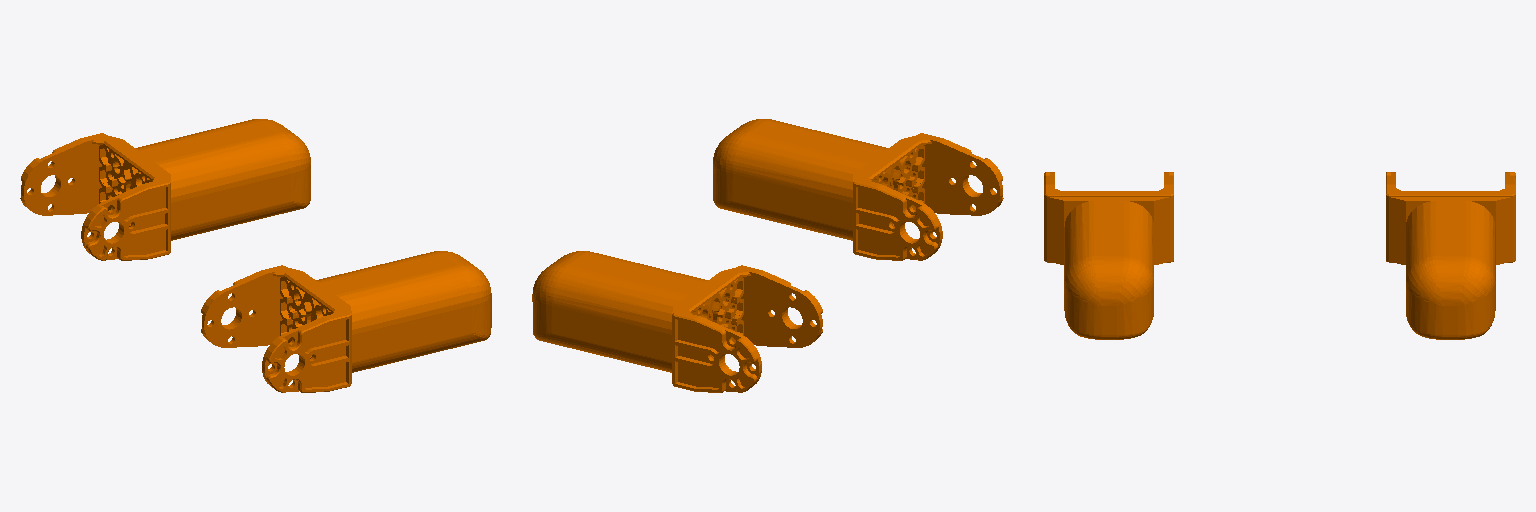
robot.urdf — onshape:
<robot name="onshape">
  <link name="palm_lower">
    <inertial>
      <origin xyz="0.0 0.0 0.0" rpy="0.0 -0.0 0.0"/>
      <mass value="0.237"/>
      <inertia ixx="0.000354094" ixy="-1.193e-06" ixz="-2.445e-06" iyy="0.000260915" iyz="-2.905e-06" izz="0.000529257"/>
    </inertial>
    <visual>
      <geometry>
        <mesh filename="../assets/leap/leap_hand/palm_lower.stl"/>
      </geometry>
      <origin xyz="-0.020095249652862544 0.025757756134899473 -0.034722403578460216" rpy="0.0 -0.0 0.0"/>
      <material name="palm_lower_material">
        <color rgba="0.6039215686274509 0.14901960784313725 0.14901960784313725 1.0"/>
      </material>
    </visual>
    <collision>
      <geometry>
        <mesh filename="../assets/leap/leap_hand/palm_lower.stl"/>
      </geometry>
      <origin xyz="-0.020095249652862544 0.025757756134899473 -0.034722403578460216" rpy="0.0 -0.0 0.0"/>
    </collision>
  </link>
  <link name="mcp_joint">
    <inertial>
      <origin xyz="0.0 0.0 0.0" rpy="0.0 -0.0 0.0"/>
      <mass value="0.044"/>
      <inertia ixx="1.1499e-05" ixy="3.049e-06" ixz="1.21e-07" iyy="7.796e-06" iyz="1.12e-07" izz="1.4759e-05"/>
    </inertial>
    <visual>
      <geometry>
        <mesh filename="../assets/leap/leap_hand/mcp_joint.stl"/>
      </geometry>
      <origin xyz="0.008406902261174496 0.0077662438597169954 0.014657354985032912" rpy="1.6375789613221e-15 -1.021047330249102e-30 1.7177968783327987e-31"/>
      <material name="mcp_joint_material">
        <color rgba="0.8666666666666667 0.8666666666666667 0.050980392156862744 1.0"/>
      </material>
    </visual>
    <collision>
      <geometry>
        <mesh filename="../assets/leap/leap_hand/mcp_joint.stl"/>
      </geometry>
      <origin xyz="0.008406902261174496 0.0077662438597169954 0.014657354985032912" rpy="1.6375789613221e-15 -1.021047330249102e-30 1.7177968783327987e-31"/>
    </collision>
  </link>
  <link name="pip">
    <inertial>
      <origin xyz="0.0 0.0 0.0" rpy="0.0 -0.0 0.0"/>
      <mass value="0.032"/>
      <inertia ixx="4.798e-06" ixy="1.2e-08" ixz="4e-09" iyy="2.862e-06" iyz="1.1e-08" izz="4.234e-06"/>
    </inertial>
    <visual>
      <geometry>
        <mesh filename="../assets/leap/leap_hand/pip.stl"/>
      </geometry>
      <origin xyz="0.009643363092271328 0.0002999999999999895 0.0007840340104173765" rpy="-1.5707963267948966 -1.5707963267948963 0.0"/>
      <material name="pip_material">
        <color rgba="0.7490196078431373 0.7490196078431373 0.7490196078431373 1.0"/>
      </material>
    </visual>
    <collision>
      <geometry>
        <mesh filename="../assets/leap/leap_hand/pip.stl"/>
      </geometry>
      <origin xyz="0.009643363092271328 0.0002999999999999895 0.0007840340104173765" rpy="-1.5707963267948966 -1.5707963267948963 0.0"/>
    </collision>
  </link>
  <link name="dip">
    <inertial>
      <origin xyz="0.0 0.0 0.0" rpy="0.0 -0.0 0.0"/>
      <mass value="0.037"/>
      <inertia ixx="5.542e-06" ixy="-6.07e-07" ixz="-1.7e-08" iyy="5.727e-06" iyz="-2.3e-08" izz="6.682e-06"/>
    </inertial>
    <visual>
      <geometry>
        <mesh filename="../assets/leap/leap_hand/dip.stl"/>
      </geometry>
      <origin xyz="0.021133352895225003 -0.00843211914670488 0.00978508816209524" rpy="-3.141592653589793 4.507511124216441e-32 4.439548105392361e-32"/>
      <material name="dip_material">
        <color rgba="0.8666666666666667 0.8666666666666667 0.050980392156862744 1.0"/>
      </material>
    </visual>
    <collision>
      <geometry>
        <mesh filename="../assets/leap/leap_hand/dip.stl"/>
      </geometry>
      <origin xyz="0.021133352895225003 -0.00843211914670488 0.00978508816209524" rpy="-3.141592653589793 4.507511124216441e-32 4.439548105392361e-32"/>
    </collision>
  </link>
  <link name="fingertip_long">
    <inertial>
      <origin xyz="0.0 0.0 0.0" rpy="0.0 -0.0 0.0"/>
      <mass value="0.016"/>
      <inertia ixx="3.368e-06" ixy="1.15e-07" ixz="0.0" iyy="1.556e-06" iyz="0.0" izz="2.863e-06"/>
    </inertial>
    <visual>
      <geometry>
        <mesh filename="custom_models/fingertip_long.stl"/>
      </geometry>
      <origin xyz="0.013286424108533503 -0.006114238386541987 0.014499999999999498" rpy="3.141592653589793 1.1993117970061735e-33 4.439548105392361e-32"/>
      <material name="fingertip_material">
        <color rgba="0.878 0.467 0.0 1.0"/>
      </material>
    </visual>
    <collision>
      <geometry>
        <mesh filename="custom_models/fingertip_long.stl"/>
      </geometry>
      <origin xyz="0.013286424108533503 -0.006114238386541987 0.014499999999999498" rpy="3.141592653589793 1.1993117970061735e-33 4.439548105392361e-32"/>
    </collision>
  </link>
  <link name="pip_4">
    <inertial>
      <origin xyz="0.0 0.0 0.0" rpy="0.0 -0.0 0.0"/>
      <mass value="0.032"/>
      <inertia ixx="4.798e-06" ixy="1.2e-08" ixz="4e-09" iyy="2.862e-06" iyz="1.1e-08" izz="4.234e-06"/>
    </inertial>
    <visual>
      <geometry>
        <mesh filename="../assets/leap/leap_hand/pip.stl"/>
      </geometry>
      <origin xyz="-0.005356636907728671 0.0002999999999999999 0.0007840340104173782" rpy="-1.5707963267948966 -1.5707963267948963 0.0"/>
      <material name="pip_material">
        <color rgba="0.7490196078431373 0.7490196078431373 0.7490196078431373 1.0"/>
      </material>
    </visual>
    <collision>
      <geometry>
        <mesh filename="../assets/leap/leap_hand/pip.stl"/>
      </geometry>
      <origin xyz="-0.005356636907728671 0.0002999999999999999 0.0007840340104173782" rpy="-1.5707963267948966 -1.5707963267948963 0.0"/>
    </collision>
  </link>
  <link name="thumb_pip">
    <inertial>
      <origin xyz="0.0 0.0 0.0" rpy="0.0 -0.0 0.0"/>
      <mass value="0.003"/>
      <inertia ixx="5.93e-07" ixy="0.0" ixz="0.0" iyy="5.49e-07" iyz="0.0" izz="2.24e-07"/>
    </inertial>
    <visual>
      <geometry>
        <mesh filename="../assets/leap/leap_hand/thumb_pip.stl"/>
      </geometry>
      <origin xyz="0.011961920770611187 -5.30825383648903e-16 -0.0158526489566642" rpy="1.5707963267948966 1.6050198443300153e-46 -3.9204996250525193e-59"/>
      <material name="thumb_pip_material">
        <color rgba="0.8666666666666667 0.8666666666666667 0.050980392156862744 1.0"/>
      </material>
    </visual>
    <collision>
      <geometry>
        <mesh filename="../assets/leap/leap_hand/thumb_pip.stl"/>
      </geometry>
      <origin xyz="0.011961920770611187 -5.30825383648903e-16 -0.0158526489566642" rpy="1.5707963267948966 1.6050198443300153e-46 -3.9204996250525193e-59"/>
    </collision>
  </link>
  <link name="thumb_dip">
    <inertial>
      <origin xyz="0.0 0.0 0.0" rpy="0.0 -0.0 0.0"/>
      <mass value="0.038"/>
      <inertia ixx="8.474e-06" ixy="2.41e-07" ixz="2.6e-08" iyy="3.841e-06" iyz="2.5e-08" izz="7.679e-06"/>
    </inertial>
    <visual>
      <geometry>
        <mesh filename="../assets/leap/leap_hand/thumb_dip.stl"/>
      </geometry>
      <origin xyz="0.043968715707239175 0.0579529529737092 -0.008628676449369476" rpy="1.94289029309401e-16 3.27515792264422e-15 1.112375852965736e-46"/>
      <material name="thumb_dip_material">
        <color rgba="0.8666666666666667 0.8666666666666667 0.050980392156862744 1.0"/>
      </material>
    </visual>
    <collision>
      <geometry>
        <mesh filename="../assets/leap/leap_hand/thumb_dip.stl"/>
      </geometry>
      <origin xyz="0.043968715707239175 0.0579529529737092 -0.008628676449369476" rpy="1.94289029309401e-16 3.27515792264422e-15 1.112375852965736e-46"/>
    </collision>
  </link>
  <link name="thumb_fingertip">
    <inertial>
      <origin xyz="0.0 0.0 0.0" rpy="0.0 -0.0 0.0"/>
      <mass value="0.049"/>
      <inertia ixx="2.0372e-05" ixy="-4.89e-07" ixz="-3e-08" iyy="4.336e-06" iyz="-9.7e-08" izz="1.9845e-05"/>
    </inertial>
    <visual>
      <geometry>
        <mesh filename="../assets/leap/leap_hand/thumb_fingertip.stl"/>
      </geometry>
      <origin xyz="0.06255953846266739 0.07845968291139699 0.048992911807332215" rpy="4.379057701015637e-47 -3.33066907387547e-16 1.2042408677791935e-46"/>
      <material name="thumb_fingertip_material">
        <color rgba="0.6039215686274509 0.14901960784313725 0.14901960784313725 1.0"/>
      </material>
    </visual>
    <collision>
      <geometry>
        <mesh filename="../assets/leap/leap_hand/thumb_fingertip.stl"/>
      </geometry>
      <origin xyz="0.06255953846266739 0.07845968291139699 0.048992911807332215" rpy="4.379057701015637e-47 -3.33066907387547e-16 1.2042408677791935e-46"/>
    </collision>
  </link>
  <link name="mcp_joint_2">
    <inertial>
      <origin xyz="0.0 0.0 0.0" rpy="0.0 -0.0 0.0"/>
      <mass value="0.044"/>
      <inertia ixx="1.1499e-05" ixy="3.049e-06" ixz="1.21e-07" iyy="7.796e-06" iyz="1.12e-07" izz="1.4759e-05"/>
    </inertial>
    <visual>
      <geometry>
        <mesh filename="../assets/leap/leap_hand/mcp_joint.stl"/>
      </geometry>
      <origin xyz="0.008406902261174496 0.0077662438597169954 0.014657354985032914" rpy="1.6375789613221e-15 -1.0076465469034e-30 2.1209300131419907e-61"/>
      <material name="mcp_joint_material">
        <color rgba="0.8666666666666667 0.8666666666666667 0.050980392156862744 1.0"/>
      </material>
    </visual>
    <collision>
      <geometry>
        <mesh filename="../assets/leap/leap_hand/mcp_joint.stl"/>
      </geometry>
      <origin xyz="0.008406902261174496 0.0077662438597169954 0.014657354985032914" rpy="1.6375789613221e-15 -1.0076465469034e-30 2.1209300131419907e-61"/>
    </collision>
  </link>
  <link name="pip_2">
    <inertial>
      <origin xyz="0.0 0.0 0.0" rpy="0.0 -0.0 0.0"/>
      <mass value="0.032"/>
      <inertia ixx="4.798e-06" ixy="1.2e-08" ixz="4e-09" iyy="2.862e-06" iyz="1.1e-08" izz="4.234e-06"/>
    </inertial>
    <visual>
      <geometry>
        <mesh filename="../assets/leap/leap_hand/pip.stl"/>
      </geometry>
      <origin xyz="0.009643363092271328 0.0002999999999999947 0.0007840340104173765" rpy="-1.5707963267948966 -1.5707963267948963 0.0"/>
      <material name="pip_material">
        <color rgba="0.7490196078431373 0.7490196078431373 0.7490196078431373 1.0"/>
      </material>
    </visual>
    <collision>
      <geometry>
        <mesh filename="../assets/leap/leap_hand/pip.stl"/>
      </geometry>
      <origin xyz="0.009643363092271328 0.0002999999999999947 0.0007840340104173765" rpy="-1.5707963267948966 -1.5707963267948963 0.0"/>
    </collision>
  </link>
  <link name="dip_2">
    <inertial>
      <origin xyz="0.0 0.0 0.0" rpy="0.0 -0.0 0.0"/>
      <mass value="0.037"/>
      <inertia ixx="5.542e-06" ixy="-6.07e-07" ixz="-1.7e-08" iyy="5.727e-06" iyz="-2.3e-08" izz="6.682e-06"/>
    </inertial>
    <visual>
      <geometry>
        <mesh filename="../assets/leap/leap_hand/dip.stl"/>
      </geometry>
      <origin xyz="0.021133352895225003 -0.008432119146704865 0.009785088162095237" rpy="-3.141592653589793 2.1146933785271956e-32 1.4408183216511869e-31"/>
      <material name="dip_material">
        <color rgba="0.8666666666666667 0.8666666666666667 0.050980392156862744 1.0"/>
      </material>
    </visual>
    <collision>
      <geometry>
        <mesh filename="../assets/leap/leap_hand/dip.stl"/>
      </geometry>
      <origin xyz="0.021133352895225003 -0.008432119146704865 0.009785088162095237" rpy="-3.141592653589793 2.1146933785271956e-32 1.4408183216511869e-31"/>
    </collision>
  </link>
  <link name="fingertip_2">
    <inertial>
      <origin xyz="0.0 0.0 0.0" rpy="0.0 -0.0 0.0"/>
      <mass value="0.016"/>
      <inertia ixx="3.368e-06" ixy="1.15e-07" ixz="0.0" iyy="1.556e-06" iyz="0.0" izz="2.863e-06"/>
    </inertial>
    <visual>
      <geometry>
        <mesh filename="../assets/leap/leap_hand/fingertip.stl"/>
      </geometry>
      <origin xyz="0.013286424108533496 -0.006114238386542001 0.014499999999999496" rpy="3.141592653589793 -4.317959788283594e-33 1.4408183216511869e-31"/>
      <material name="fingertip_material">
        <color rgba="0.8666666666666667 0.8666666666666667 0.050980392156862744 1.0"/>
      </material>
    </visual>
    <collision>
      <geometry>
        <mesh filename="../assets/leap/leap_hand/fingertip.stl"/>
      </geometry>
      <origin xyz="0.013286424108533496 -0.006114238386542001 0.014499999999999496" rpy="3.141592653589793 -4.317959788283594e-33 1.4408183216511869e-31"/>
    </collision>
  </link>
  <link name="mcp_joint_3">
    <inertial>
      <origin xyz="0.0 0.0 0.0" rpy="0.0 -0.0 0.0"/>
      <mass value="0.044"/>
      <inertia ixx="1.1499e-05" ixy="3.049e-06" ixz="1.21e-07" iyy="7.796e-06" iyz="1.12e-07" izz="1.4759e-05"/>
    </inertial>
    <visual>
      <geometry>
        <mesh filename="../assets/leap/leap_hand/mcp_joint.stl"/>
      </geometry>
      <origin xyz="0.0084069022611745 0.007766243859716996 0.014657354985032914" rpy="1.6375789613221e-15 -1.0059504988632627e-30 5.729641584552035e-32"/>
      <material name="mcp_joint_material">
        <color rgba="0.8666666666666667 0.8666666666666667 0.050980392156862744 1.0"/>
      </material>
    </visual>
    <collision>
      <geometry>
        <mesh filename="../assets/leap/leap_hand/mcp_joint.stl"/>
      </geometry>
      <origin xyz="0.0084069022611745 0.007766243859716996 0.014657354985032914" rpy="1.6375789613221e-15 -1.0059504988632627e-30 5.729641584552035e-32"/>
    </collision>
  </link>
  <link name="pip_3">
    <inertial>
      <origin xyz="0.0 0.0 0.0" rpy="0.0 -0.0 0.0"/>
      <mass value="0.032"/>
      <inertia ixx="4.798e-06" ixy="1.2e-08" ixz="4e-09" iyy="2.862e-06" iyz="1.1e-08" izz="4.234e-06"/>
    </inertial>
    <visual>
      <geometry>
        <mesh filename="../assets/leap/leap_hand/pip.stl"/>
      </geometry>
      <origin xyz="0.009643363092271331 0.00029999999999998084 0.0007840340104173765" rpy="-1.5707963267948966 -1.5707963267948963 0.0"/>
      <material name="pip_material">
        <color rgba="0.7490196078431373 0.7490196078431373 0.7490196078431373 1.0"/>
      </material>
    </visual>
    <collision>
      <geometry>
        <mesh filename="../assets/leap/leap_hand/pip.stl"/>
      </geometry>
      <origin xyz="0.009643363092271331 0.00029999999999998084 0.0007840340104173765" rpy="-1.5707963267948966 -1.5707963267948963 0.0"/>
    </collision>
  </link>
  <link name="dip_3">
    <inertial>
      <origin xyz="0.0 0.0 0.0" rpy="0.0 -0.0 0.0"/>
      <mass value="0.037"/>
      <inertia ixx="5.542e-06" ixy="-6.07e-07" ixz="-1.7e-08" iyy="5.727e-06" iyz="-2.3e-08" izz="6.682e-06"/>
    </inertial>
    <visual>
      <geometry>
        <mesh filename="../assets/leap/leap_hand/dip.stl"/>
      </geometry>
      <origin xyz="0.021133352895225006 -0.008432119146704865 0.009785088162095237" rpy="-3.141592653589793 -1.4095651113919093e-33 1.5565411607615035e-32"/>
      <material name="dip_material">
        <color rgba="0.8666666666666667 0.8666666666666667 0.050980392156862744 1.0"/>
      </material>
    </visual>
    <collision>
      <geometry>
        <mesh filename="../assets/leap/leap_hand/dip.stl"/>
      </geometry>
      <origin xyz="0.021133352895225006 -0.008432119146704865 0.009785088162095237" rpy="-3.141592653589793 -1.4095651113919093e-33 1.5565411607615035e-32"/>
    </collision>
  </link>
  <link name="fingertip_3_long">
    <inertial>
      <origin xyz="0.0 0.0 0.0" rpy="0.0 -0.0 0.0"/>
      <mass value="0.016"/>
      <inertia ixx="3.368e-06" ixy="1.15e-07" ixz="0.0" iyy="1.556e-06" iyz="0.0" izz="2.863e-06"/>
    </inertial>
    <visual>
      <geometry>
        <mesh filename="custom_models/fingertip_long.stl"/>
      </geometry>
      <origin xyz="0.013286424108533501 -0.006114238386541987 0.0144999999999995" rpy="3.141592653589793 8.61707169505754e-33 1.5565411607615035e-32"/>
      <material name="fingertip_material">
        <color rgba="0.878 0.467 0.0 1.0"/>
      </material>
    </visual>
    <collision>
      <geometry>
        <mesh filename="custom_models/fingertip_long.stl"/>
      </geometry>
      <origin xyz="0.013286424108533501 -0.006114238386541987 0.0144999999999995" rpy="3.141592653589793 8.61707169505754e-33 1.5565411607615035e-32"/>
    </collision>
  </link>
  <joint name="1" type="revolute">
    <parent link="palm_lower"/>
    <child link="mcp_joint"/>
    <origin xyz="-0.007095249652862546 0.023057756134899472 -0.01872240357846022" rpy="1.570796326794895 1.5707963267948946 0.0"/>
    <axis xyz="0.0 0.0 -1.0"/>
    <limit effort="0.95" velocity="8.48" lower="-0.314" upper="2.23"/>
  </joint>
  <joint name="0" type="revolute">
    <parent link="mcp_joint"/>
    <child link="pip"/>
    <origin xyz="-0.012200000000000008 0.038099999999999995 0.0145" rpy="-1.5707963267948966 -1.0065212660796337e-15 1.5707963267948943"/>
    <axis xyz="0.0 0.0 -1.0"/>
    <limit effort="0.95" velocity="8.48" lower="-1.047" upper="1.047"/>
  </joint>
  <joint name="2" type="revolute">
    <parent link="pip"/>
    <child link="dip"/>
    <origin xyz="0.014999999999999968 0.014299999999999905 -0.012999999999999824" rpy="1.570796326794896 -1.5707963267948963 0.0"/>
    <axis xyz="0.0 0.0 -1.0"/>
    <limit effort="0.95" velocity="8.48" lower="-0.506" upper="1.885"/>
  </joint>
  <joint name="3" type="revolute">
    <parent link="dip"/>
    <child link="fingertip_long"/>
    <origin xyz="-4.088058249557269e-09 -0.03610000421036737 0.0002000000000000786" rpy="4.5935029425113685e-17 -2.8730071914463795e-16 4.439548105392361e-32"/>
    <axis xyz="0.0 0.0 -1.0"/>
    <limit effort="0.95" velocity="8.48" lower="-0.366" upper="2.042"/>
  </joint>
  <joint name="12" type="revolute">
    <parent link="palm_lower"/>
    <child link="pip_4"/>
    <origin xyz="-0.06939524965286253 -0.0012422438651005258 -0.021622403578460216" rpy="-8.238176646493942e-17 1.5707963267948957 0.0"/>
    <axis xyz="0.0 0.0 -1.0"/>
    <limit effort="0.95" velocity="8.48" lower="-0.349" upper="2.094"/>
  </joint>
  <joint name="13" type="revolute">
    <parent link="pip_4"/>
    <child link="thumb_pip"/>
    <origin xyz="-2.7755575615628914e-17 0.014300000000000005 -0.013000000000000012" rpy="1.570796326794896 -1.5707963267948963 0.0"/>
    <axis xyz="0.0 0.0 -1.0"/>
    <limit effort="0.95" velocity="8.48" lower="-0.47" upper="2.443"/>
  </joint>
  <joint name="14" type="revolute">
    <parent link="thumb_pip"/>
    <child link="thumb_dip"/>
    <origin xyz="0.0 0.014499999999999966 -0.017000000000000053" rpy="-1.5707963267948966 1.6050198443300131e-46 -1.9721522630516625e-31"/>
    <axis xyz="0.0 0.0 -1.0"/>
    <limit effort="0.95" velocity="8.48" lower="-1.2" upper="1.9"/>
  </joint>
  <joint name="15" type="revolute">
    <parent link="thumb_dip"/>
    <child link="thumb_fingertip"/>
    <origin xyz="-1.249000902703301e-16 0.046599999999999864 0.0001999999999999771" rpy="1.506395849149178e-44 5.423418723393526e-31 3.141592653589793"/>
    <axis xyz="0.0 0.0 -1.0"/>
    <limit effort="0.95" velocity="8.48" lower="-1.34" upper="1.88"/>
  </joint>
  <joint name="5" type="revolute">
    <parent link="palm_lower"/>
    <child link="mcp_joint_2"/>
    <origin xyz="-0.007095249652862546 -0.022392243865100525 -0.01872240357846022" rpy="1.570796326794895 1.5707963267948946 0.0"/>
    <axis xyz="0.0 0.0 -1.0"/>
    <limit effort="0.95" velocity="8.48" lower="-0.314" upper="2.23"/>
  </joint>
  <joint name="4" type="revolute">
    <parent link="mcp_joint_2"/>
    <child link="pip_2"/>
    <origin xyz="-0.012200000000000008 0.038099999999999995 0.0145" rpy="-1.5707963267948966 -1.0065212660796337e-15 1.5707963267948943"/>
    <axis xyz="0.0 0.0 -1.0"/>
    <limit effort="0.95" velocity="8.48" lower="-1.047" upper="1.047"/>
  </joint>
  <joint name="6" type="revolute">
    <parent link="pip_2"/>
    <child link="dip_2"/>
    <origin xyz="0.014999999999999968 0.014299999999999905 -0.012999999999999824" rpy="1.570796326794896 -1.5707963267948963 0.0"/>
    <axis xyz="0.0 0.0 -1.0"/>
    <limit effort="0.95" velocity="8.48" lower="-0.506" upper="1.885"/>
  </joint>
  <joint name="7" type="revolute">
    <parent link="dip_2"/>
    <child link="fingertip_2"/>
    <origin xyz="-4.088058249557269e-09 -0.03610000421036737 0.0002000000000000786" rpy="4.5935029425113685e-17 -2.8730071914463795e-16 4.439548105392361e-32"/>
    <axis xyz="0.0 0.0 -1.0"/>
    <limit effort="0.95" velocity="8.48" lower="-0.366" upper="2.042"/>
  </joint>
  <joint name="9" type="revolute">
    <parent link="palm_lower"/>
    <child link="mcp_joint_3"/>
    <origin xyz="-0.007095249652862546 -0.06784224386510052 -0.01872240357846022" rpy="1.570796326794895 1.5707963267948946 0.0"/>
    <axis xyz="0.0 0.0 -1.0"/>
    <limit effort="0.95" velocity="8.48" lower="-0.314" upper="2.23"/>
  </joint>
  <joint name="8" type="revolute">
    <parent link="mcp_joint_3"/>
    <child link="pip_3"/>
    <origin xyz="-0.012200000000000008 0.038099999999999995 0.0145" rpy="-1.5707963267948966 -1.0065212660796337e-15 1.5707963267948943"/>
    <axis xyz="0.0 0.0 -1.0"/>
    <limit effort="0.95" velocity="8.48" lower="-1.047" upper="1.047"/>
  </joint>
  <joint name="10" type="revolute">
    <parent link="pip_3"/>
    <child link="dip_3"/>
    <origin xyz="0.014999999999999968 0.014299999999999905 -0.012999999999999824" rpy="1.570796326794896 -1.5707963267948963 0.0"/>
    <axis xyz="0.0 0.0 -1.0"/>
    <limit effort="0.95" velocity="8.48" lower="-0.506" upper="1.885"/>
  </joint>
  <joint name="11" type="revolute">
    <parent link="dip_3"/>
    <child link="fingertip_3_long"/>
    <origin xyz="-4.088058249557269e-09 -0.03610000421036737 0.0002000000000000786" rpy="4.5935029425113685e-17 -2.8730071914463795e-16 4.439548105392361e-32"/>
    <axis xyz="0.0 0.0 -1.0"/>
    <limit effort="0.95" velocity="8.48" lower="-0.366" upper="2.042"/>
  </joint>
</robot>

--- Facts derived from the render (not from the file) ---
Views: 3 orthographic renders of the robot side by side, from view 1: azimuth 30°, elevation 25°; view 2: azimuth 150°, elevation 25°; view 3: azimuth 270°, elevation 25°.
Robot: onshape — 17 links, 16 joints (16 revolute); root link palm_lower; default pose: all joints at 0.
Visible links, largest first — view 1: fingertip_3_long, fingertip_long; view 2: fingertip_3_long, fingertip_long; view 3: fingertip_long, fingertip_3_long.
Link boxes in pixels (x1,y1,x2,y2): fingertip_3_long: (201, 251, 491, 392); fingertip_long: (20, 119, 310, 260); fingertip_3_long: (713, 119, 1003, 260); fingertip_long: (532, 251, 822, 392); fingertip_long: (1386, 172, 1515, 339); fingertip_3_long: (1044, 172, 1173, 339).
Bounding box of the posed robot: 0.0724 × 0.1255 × 0.0211 m (x, y, z).
Meshes: 9 distinct files referenced, 2 mesh visuals loaded (1 binary STL); not drawn: 15 (reference not matched to a file when rendering).